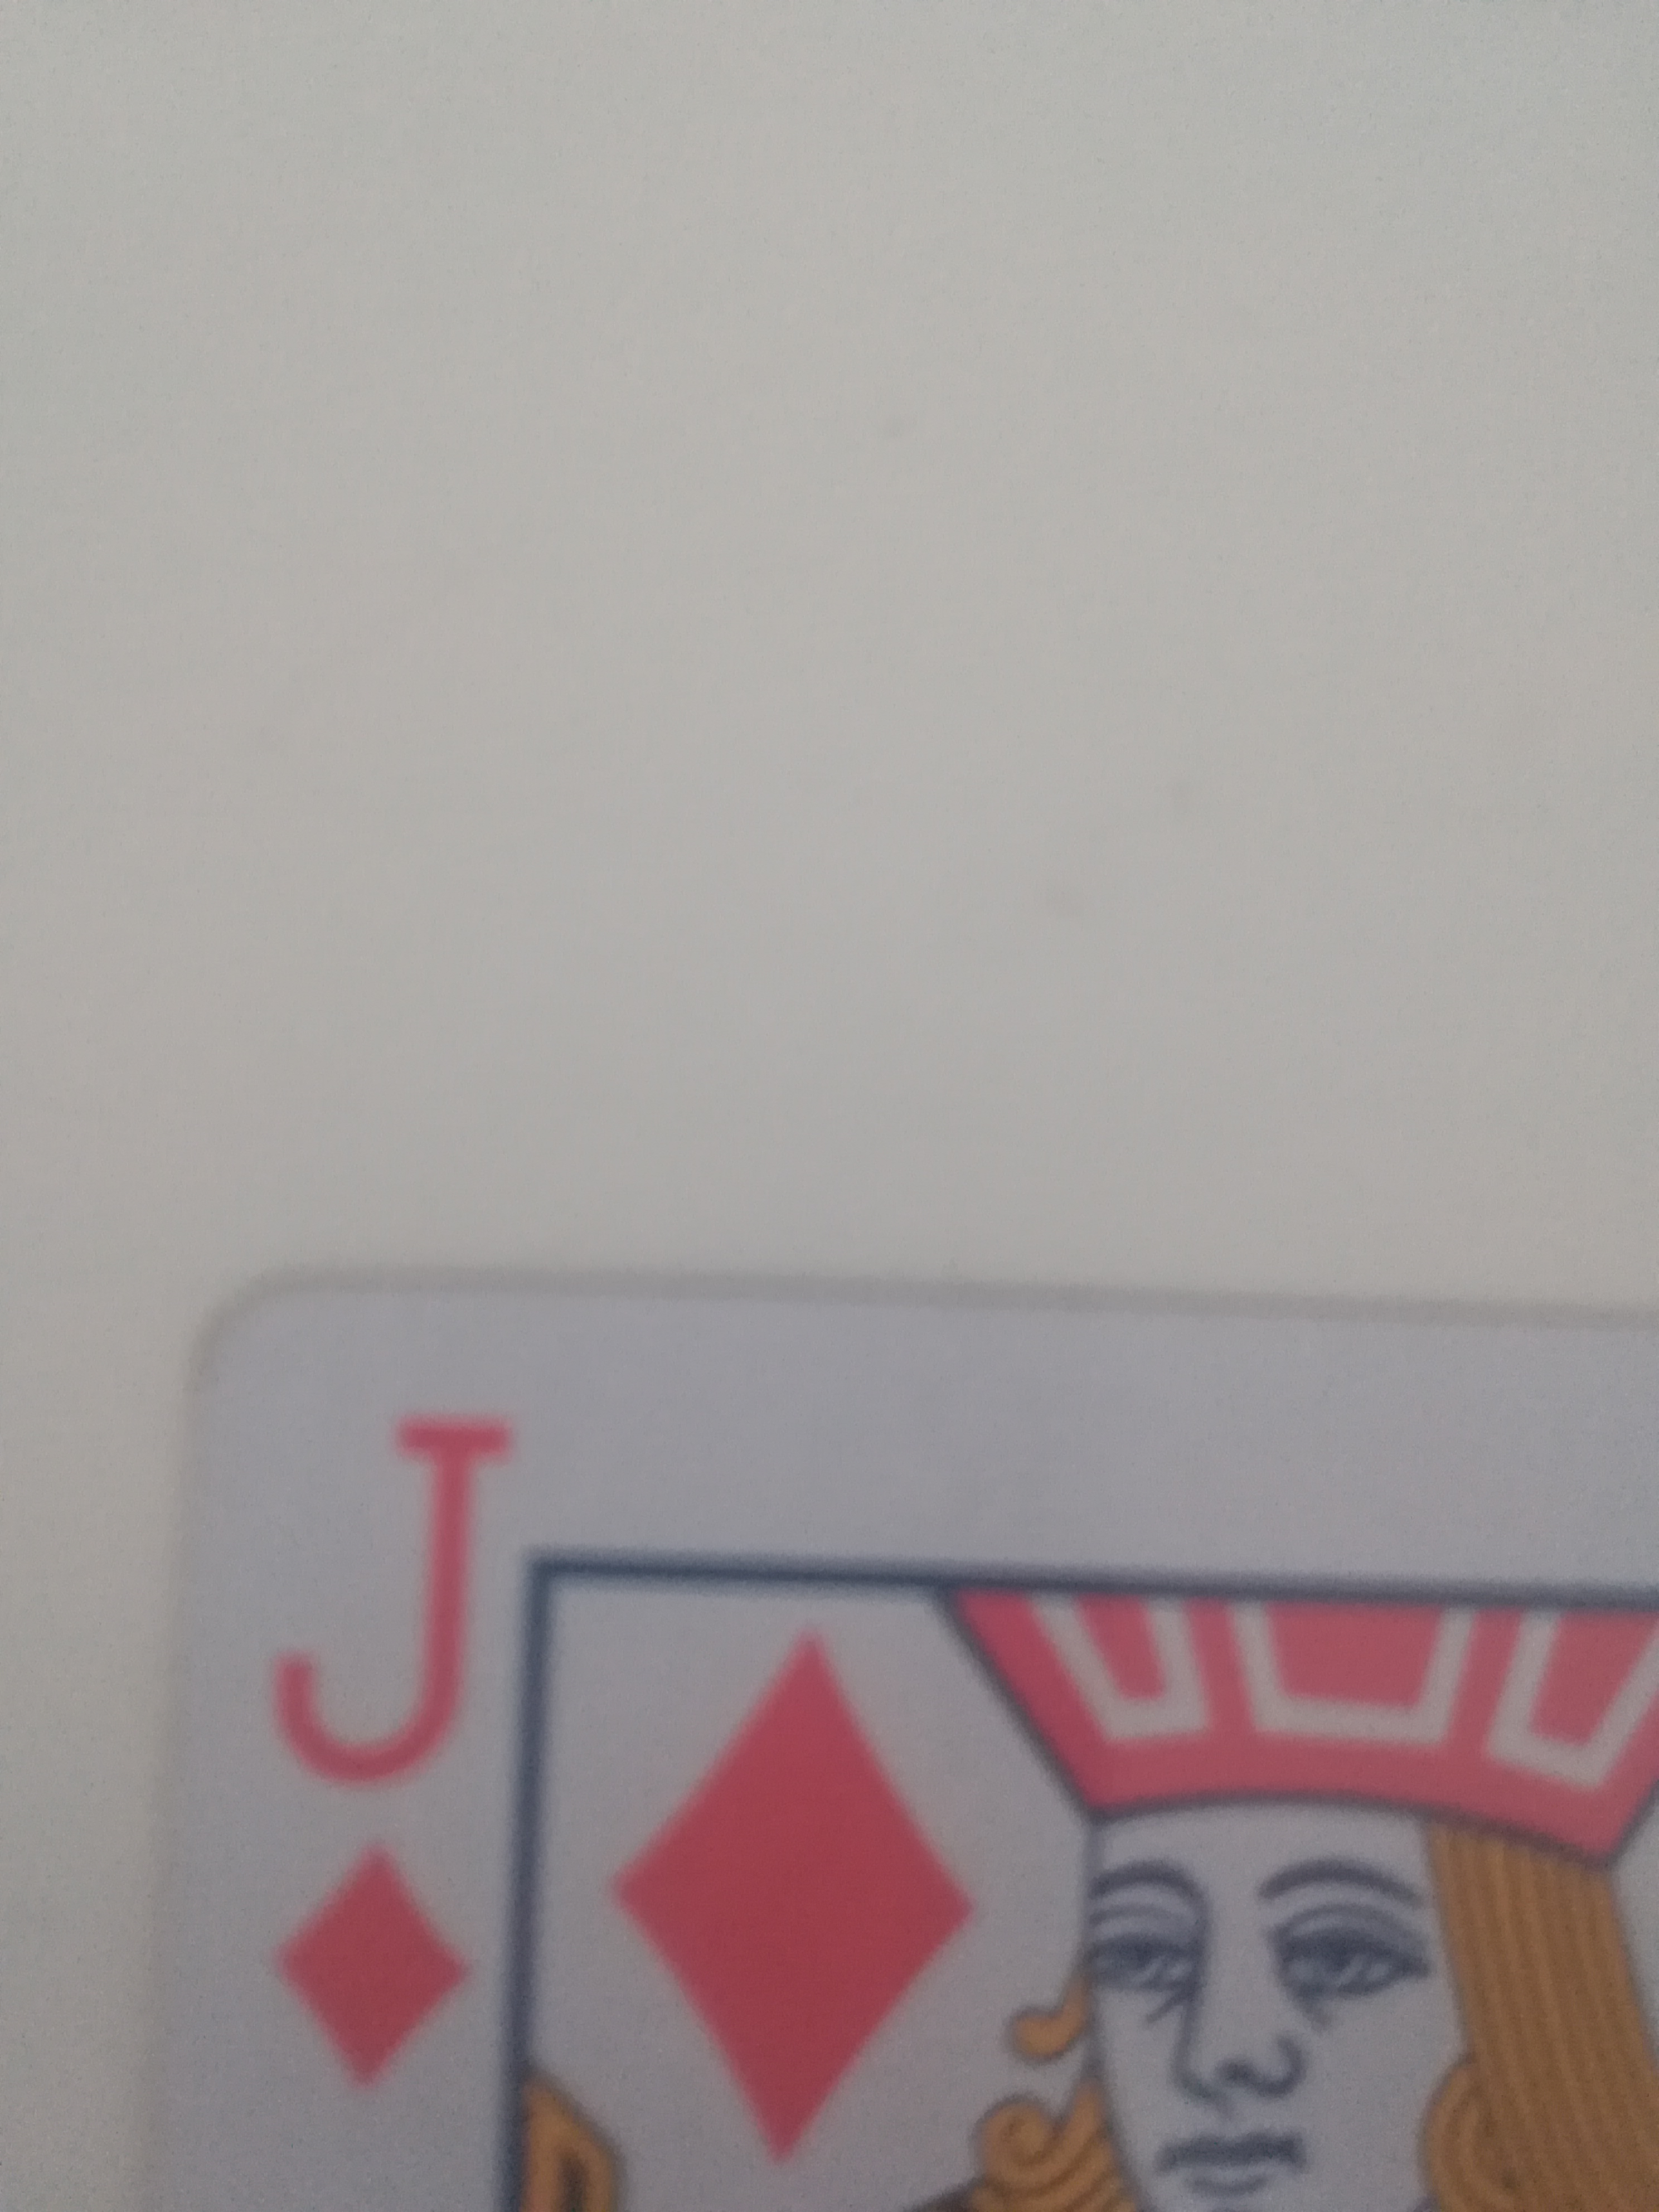JD: (146, 1273, 1656, 2212)
